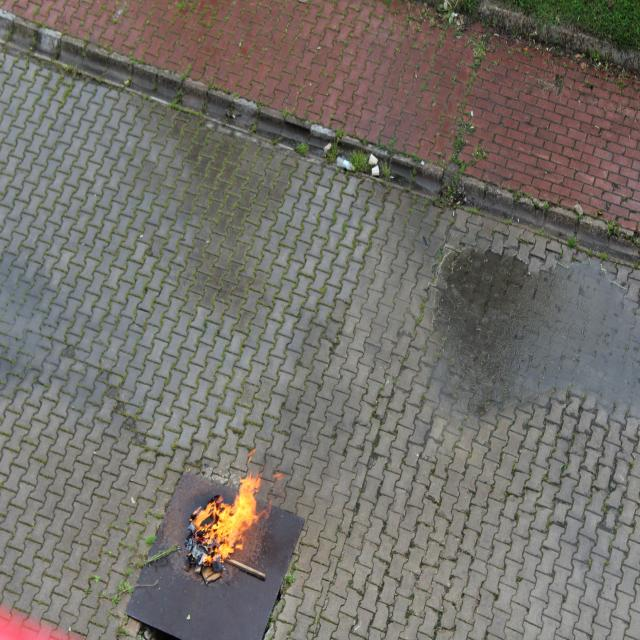fire: (191, 452, 276, 556)
